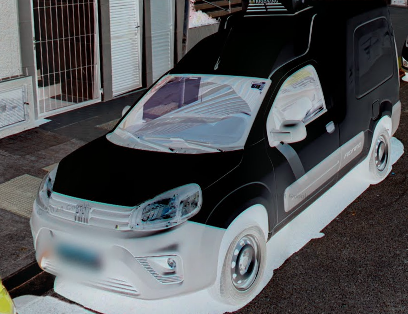car: (30, 16, 400, 308)
